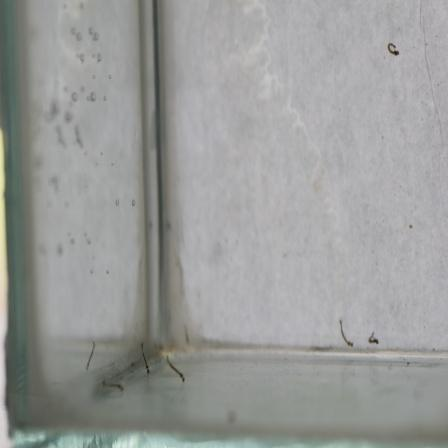Jentik-Nyamuk: (161, 352, 188, 385), (337, 317, 356, 352), (138, 339, 153, 377), (100, 378, 127, 393), (385, 40, 402, 59), (363, 330, 382, 347)
